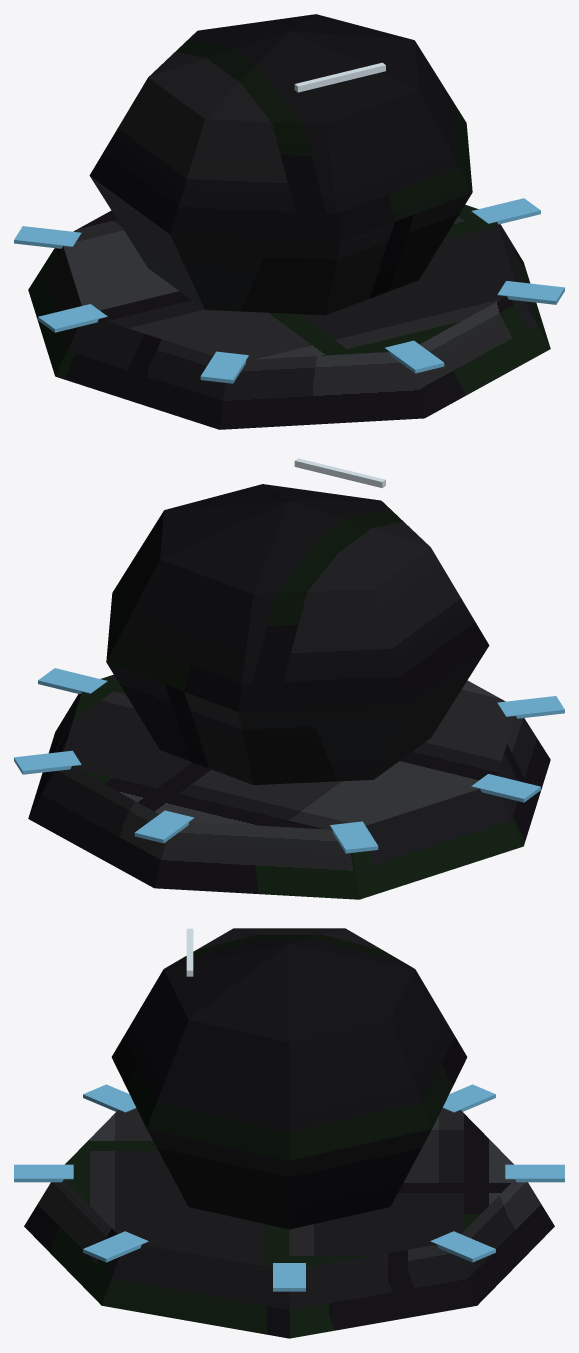
The model's file is lift_stone.glb.
3 views of the same model, one above another, from view 1: azimuth 30°, elevation 25°; view 2: azimuth 150°, elevation 25°; view 3: azimuth 270°, elevation 25° (orthographic).
Visible parts, largest first — view 1: lift_stone; view 2: lift_stone; view 3: lift_stone.
Boxes of the visible parts, x1,y1,x2,y2 form: lift_stone: (14,14,564,429); lift_stone: (14,458,564,899); lift_stone: (14,928,564,1338).
Bounding box in the file's own units: 1.66 × 0.94 × 1.66.
2 materials, 1 textured.
